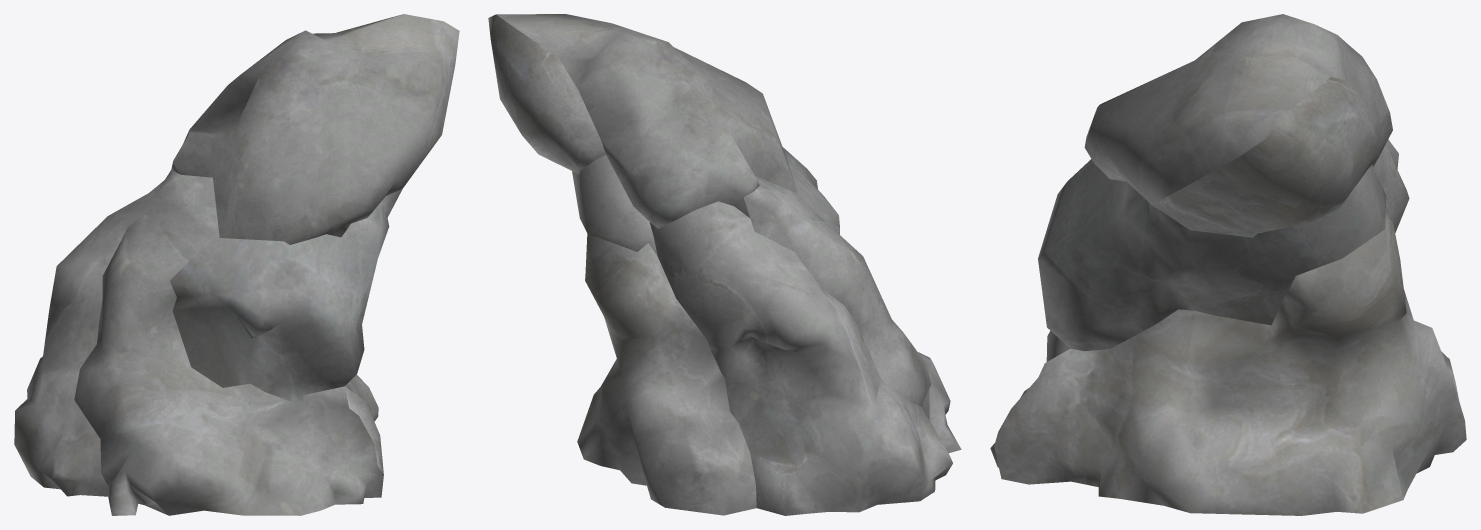
The model's file is SM_Com_Roc_34AS.fbx.
3 views of the same model, side by side, from view 1: azimuth 30°, elevation 25°; view 2: azimuth 150°, elevation 25°; view 3: azimuth 270°, elevation 25° (orthographic). The views are drawn at different scales.
Parts seen in each view (by area): view 1: SM_Com_Roc_34AS.mo; view 2: SM_Com_Roc_34AS.mo; view 3: SM_Com_Roc_34AS.mo.
Part boxes in pixels (x1,y1,x2,y2): SM_Com_Roc_34AS.mo: [14, 14, 459, 515]; SM_Com_Roc_34AS.mo: [488, 14, 961, 515]; SM_Com_Roc_34AS.mo: [990, 14, 1466, 515].
Size of the model in its own units: 7.66 by 6.34 by 5.62.
